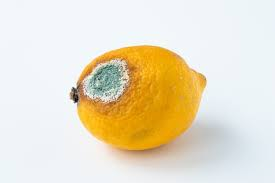lemon: (68, 45, 208, 152)
rotten: (80, 57, 130, 105)
